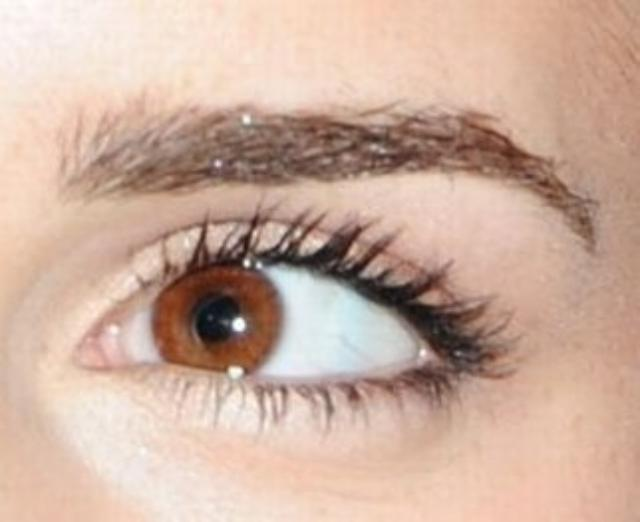eye: (147, 248, 287, 386)
